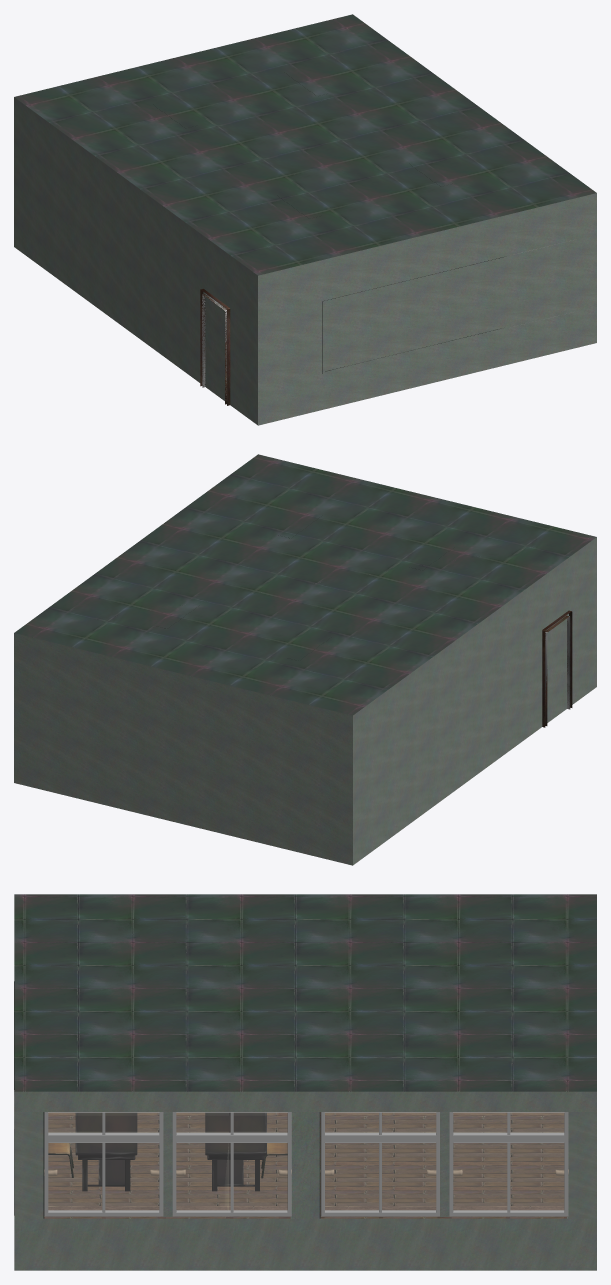
The model's file is FinalClassroomV2.0.glb.
The picture shows the model from 3 angles, top to bottom: view 1: azimuth 30°, elevation 25°; view 2: azimuth 150°, elevation 25°; view 3: azimuth 270°, elevation 25°; orthographic projection. The views are drawn at different scales.
Visible parts, largest first — view 1: wall, ceilling, Door.001|Door_L_door.blend|Dupli|_door_0; view 2: wall, ceilling, Door.001|Door_L_door.blend|Dupli|_door_0; view 3: ceilling, wall, ground, Window.003|Glass_L_Window.blend|Dupli|2_glass_0, Window.002|Glass_L_Window.blend|Dupli|2_glass_0, Window.003|Window_L_Window.blend|Dupli|1_PlasticGrey_0, Window.002|Window_L_Window.blend|Dupli|1_PlasticGrey_0, wall.002, teacherDesk.001|teacherDesk_L_teacherDesk.blend|Dupli|_teach, teacherDesk.001|teacherDesk_L_teacherDesk.blend|Dupli|_teac, wall.001, Window.003|WindowWoodPlate_L_Window.blend|Dupli|3_WindowWood (+3 smaller).
Boxes of the visible parts, x1=… form: wall: x1=14, y1=97, x2=596, y2=425; ceilling: x1=14, y1=14, x2=596, y2=275; Door.001|Door_L_door.blend|Dupli|_door_0: x1=200, y1=288, x2=230, y2=405; wall: x1=14, y1=537, x2=596, y2=865; ceilling: x1=14, y1=454, x2=596, y2=715; Door.001|Door_L_door.blend|Dupli|_door_0: x1=542, y1=610, x2=572, y2=727; ceilling: x1=14, y1=894, x2=596, y2=1091; wall: x1=14, y1=1091, x2=596, y2=1270; ground: x1=44, y1=1112, x2=566, y2=1218; Window.003|Glass_L_Window.blend|Dupli|2_glass_0: x1=48, y1=1113, x2=287, y2=1210; Window.002|Glass_L_Window.blend|Dupli|2_glass_0: x1=325, y1=1113, x2=563, y2=1210; Window.003|Window_L_Window.blend|Dupli|1_PlasticGrey_0: x1=44, y1=1112, x2=291, y2=1216; Window.002|Window_L_Window.blend|Dupli|1_PlasticGrey_0: x1=321, y1=1112, x2=568, y2=1216; wall.002: x1=14, y1=1112, x2=596, y2=1218; teacherDesk.001|teacherDesk_L_teacherDesk.blend|Dupli|_teach: x1=75, y1=1112, x2=137, y2=1191; teacherDesk.001|teacherDesk_L_teacherDesk.blend|Dupli|_teac: x1=205, y1=1112, x2=266, y2=1191; wall.001: x1=290, y1=1112, x2=320, y2=1218; Window.003|WindowWoodPlate_L_Window.blend|Dupli|3_WindowWood: x1=44, y1=1206, x2=291, y2=1216.
Bounding box in the file's own units: 811 × 342 × 1004.
18 materials, 15 textured.
